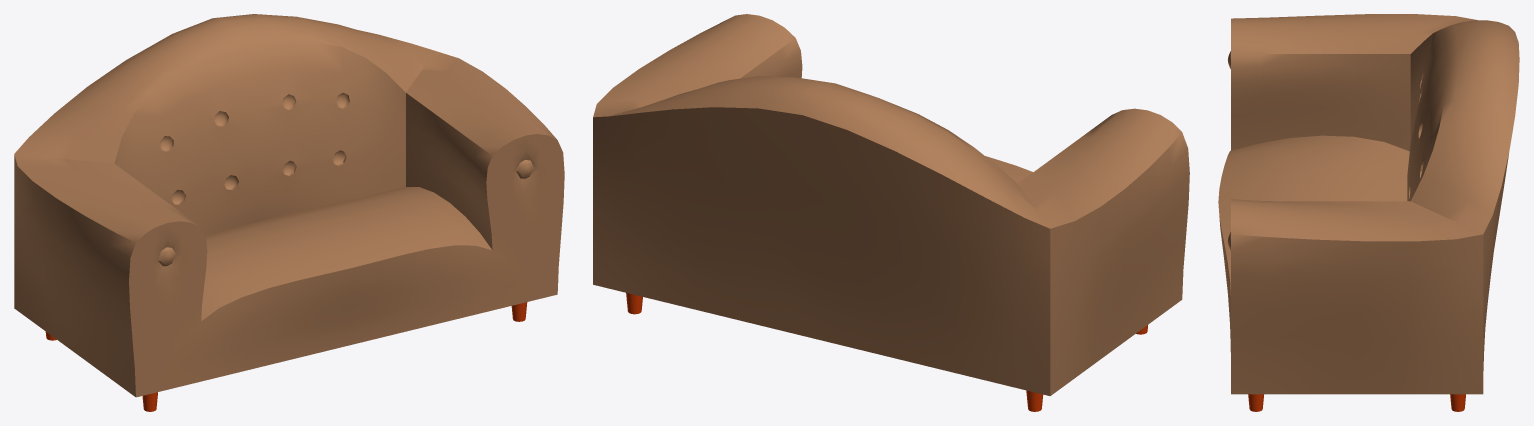
The picture shows the model from 3 angles, left to right: view 1: azimuth 30°, elevation 25°; view 2: azimuth 150°, elevation 25°; view 3: azimuth 270°, elevation 25°; orthographic projection. The views are drawn at different scales.
Parts seen in each view (by area): view 1: Object_3, Object_2; view 2: Object_3, Object_2; view 3: Object_3, Object_2.
Boxes of the visible parts, bbox=[...] form: Object_3: bbox=[14, 14, 564, 397]; Object_2: bbox=[45, 302, 527, 411]; Object_3: bbox=[593, 14, 1189, 395]; Object_2: bbox=[626, 293, 1147, 411]; Object_3: bbox=[1218, 14, 1519, 394]; Object_2: bbox=[1248, 394, 1465, 411].
Size of the model in its own units: 21.35 by 11.88 by 11.94.
